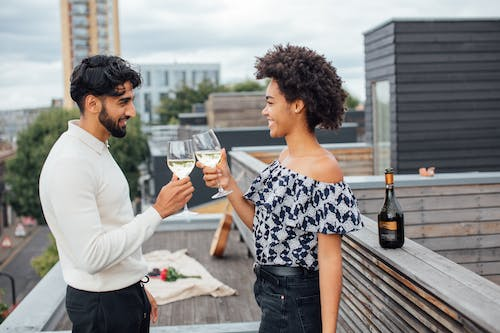alcohol: (191, 128, 234, 200), (166, 138, 199, 217), (376, 167, 406, 250)
